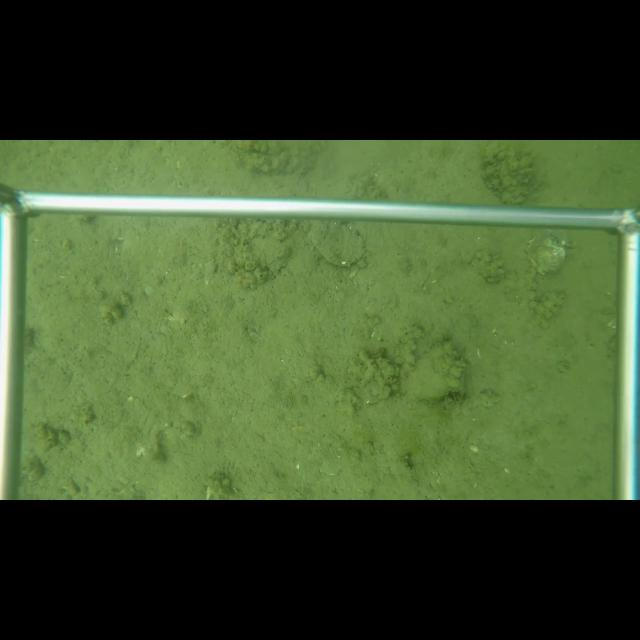Oyster-Closed: (405, 339, 468, 403), (306, 220, 369, 271), (520, 233, 569, 279)
